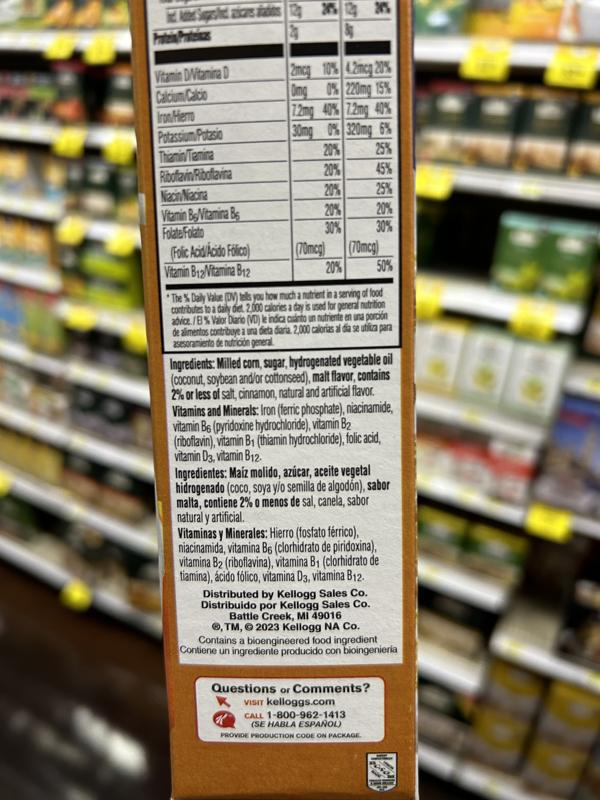ingredients: (167, 350, 397, 401)
